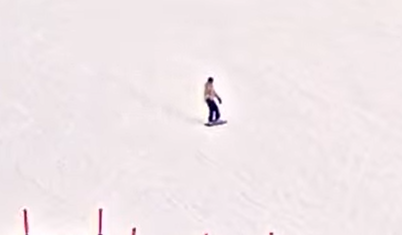snowboarder: (199, 73, 228, 128)
